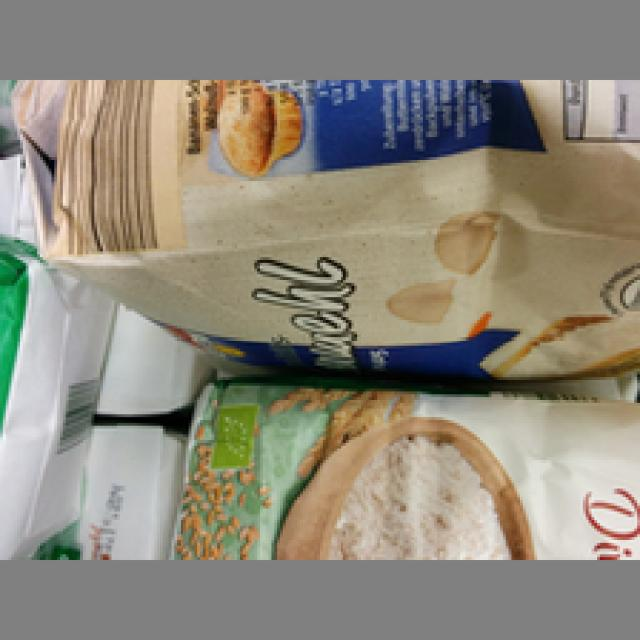groceries: (15, 77, 634, 386), (157, 374, 637, 560)
